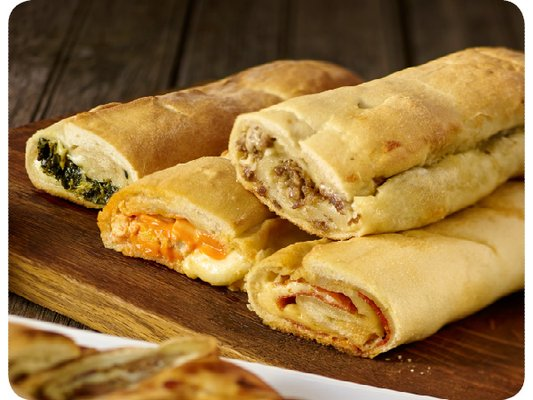soup: (224, 45, 526, 243), (243, 174, 525, 360)
